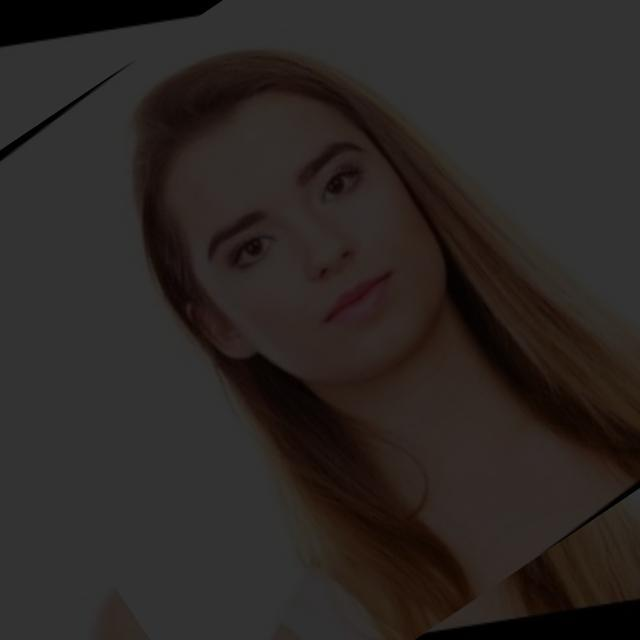Natural: (93, 123, 490, 389)
